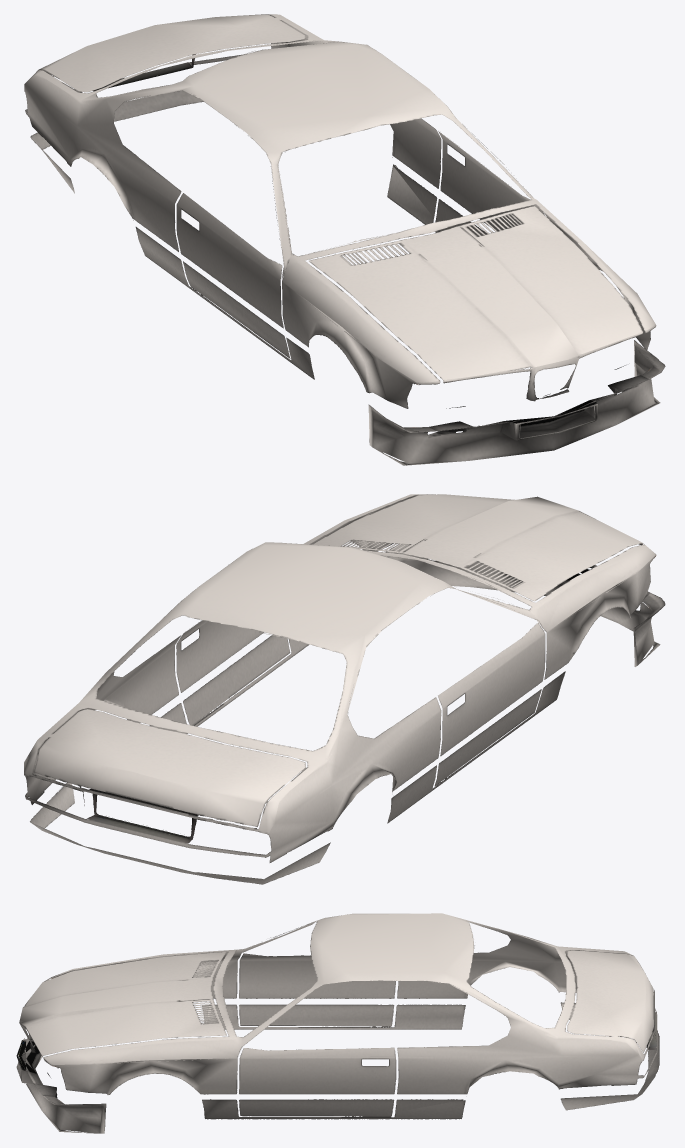
Rendered from mobile_car_0001.fbx.
The picture shows the model from 3 angles, top to bottom: view 1: azimuth 30°, elevation 25°; view 2: azimuth 150°, elevation 25°; view 3: azimuth 270°, elevation 25°; orthographic projection. The views are drawn at different scales.
Visible parts, largest first — view 1: Mesh; view 2: Mesh; view 3: Mesh.
Boxes of the visible parts, x1=… form: Mesh: x1=24, y1=14, x2=665, y2=465; Mesh: x1=24, y1=494, x2=665, y2=884; Mesh: x1=16, y1=913, x2=659, y2=1133.
Bounding box in the file's own units: 210 × 135 × 559.
